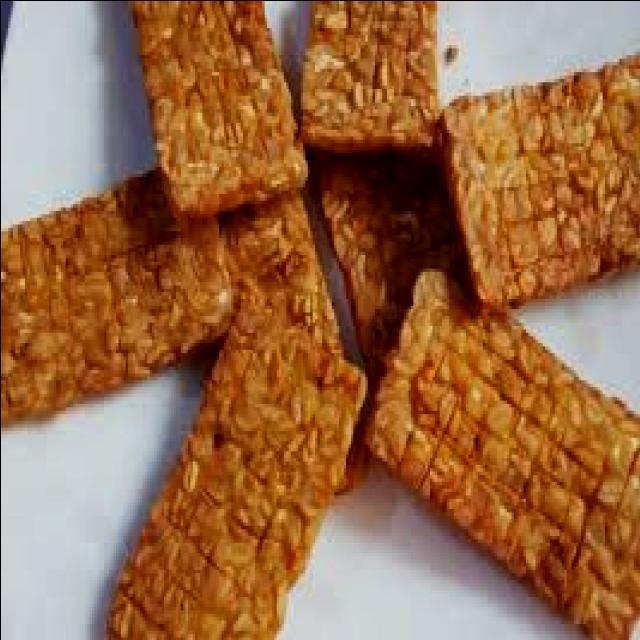tempe goreng: (355, 268, 640, 640), (105, 295, 364, 640), (0, 166, 235, 427), (434, 51, 640, 305), (127, 0, 309, 220), (300, 0, 441, 152)
